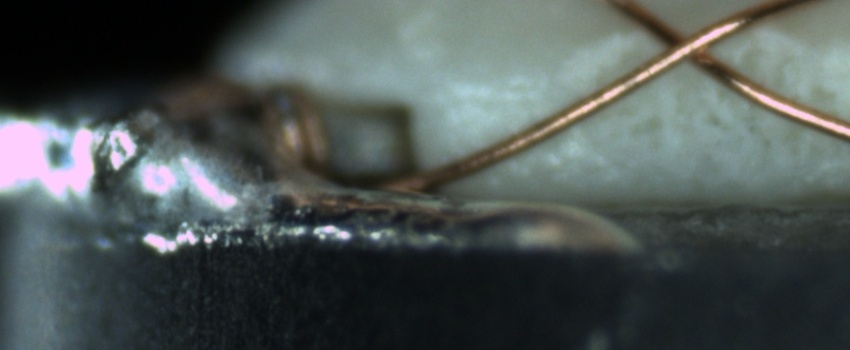CL: (640, 10, 739, 80)
DL: (448, 64, 577, 128)
TE: (262, 87, 332, 193)
